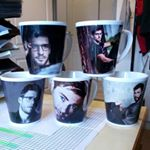cups: (72, 19, 135, 76), (17, 18, 74, 79), (97, 68, 150, 129), (46, 69, 100, 126), (1, 67, 48, 127)
